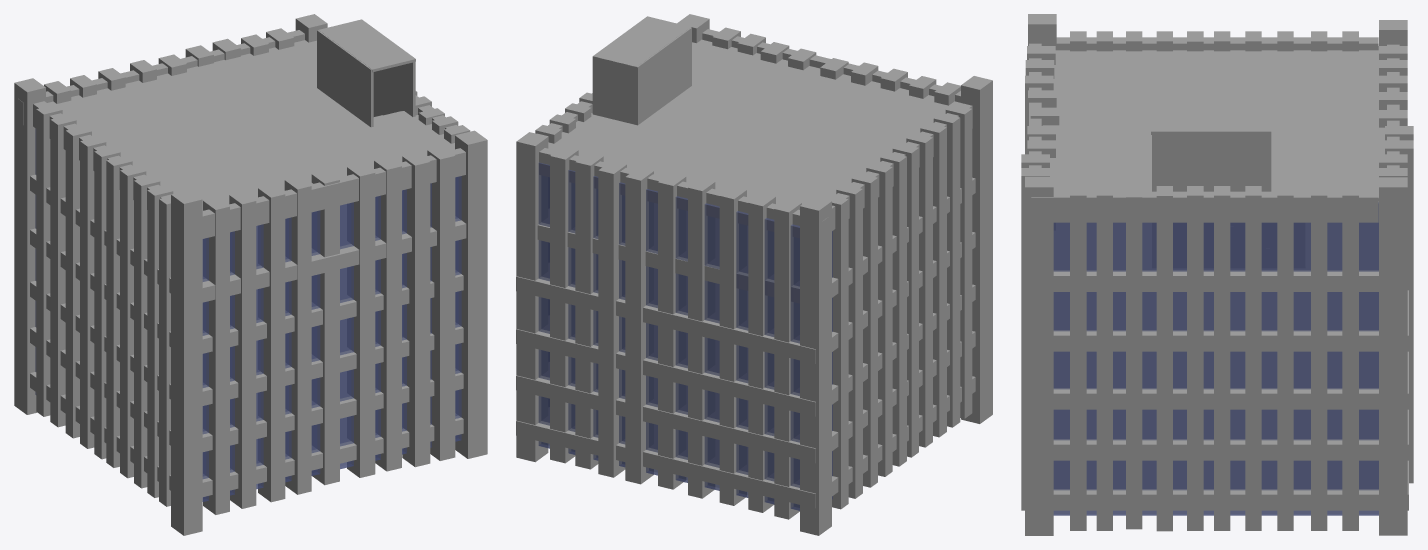
File: building new.fbx
The picture shows the model from 3 angles, left to right: view 1: azimuth 30°, elevation 25°; view 2: azimuth 150°, elevation 25°; view 3: azimuth 270°, elevation 25°; orthographic projection. The views are drawn at different scales.
Parts seen in each view (by area): view 1: pCube460; view 2: pCube460; view 3: pCube460.
Part boxes in pixels (x1=…): pCube460: x1=14, y1=14, x2=487, y2=535; pCube460: x1=516, y1=14, x2=992, y2=535; pCube460: x1=1021, y1=14, x2=1413, y2=535.
Size of the model in its own units: 1.13 by 1.29 by 1.13.
